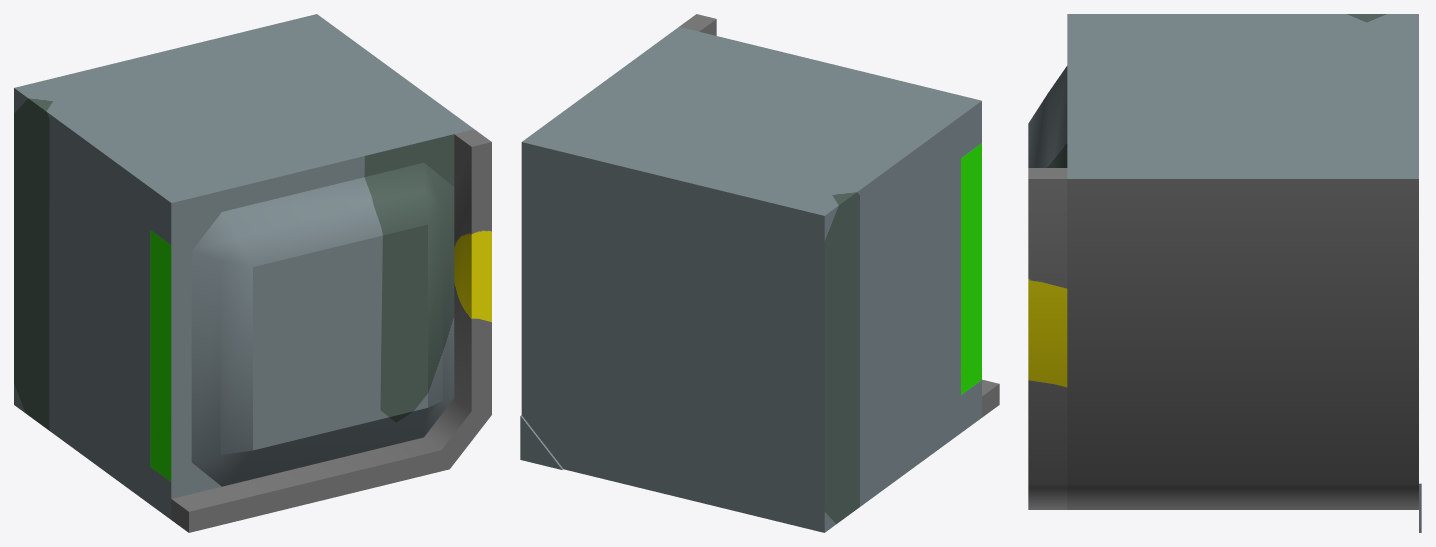
File: test bake obj.fbx
3 views of the same model, side by side, from view 1: azimuth 30°, elevation 25°; view 2: azimuth 150°, elevation 25°; view 3: azimuth 270°, elevation 25° (orthographic). The views are drawn at different scales.
Parts seen in each view (by area): view 1: geo1; view 2: geo1; view 3: geo1.
Boxes of the visible parts, box(x1,y1,x2,y2) form: geo1: box(14, 14, 491, 532); geo1: box(520, 14, 999, 532); geo1: box(1028, 14, 1421, 532).
Size of the model in its own units: 3 by 3 by 3.02.
